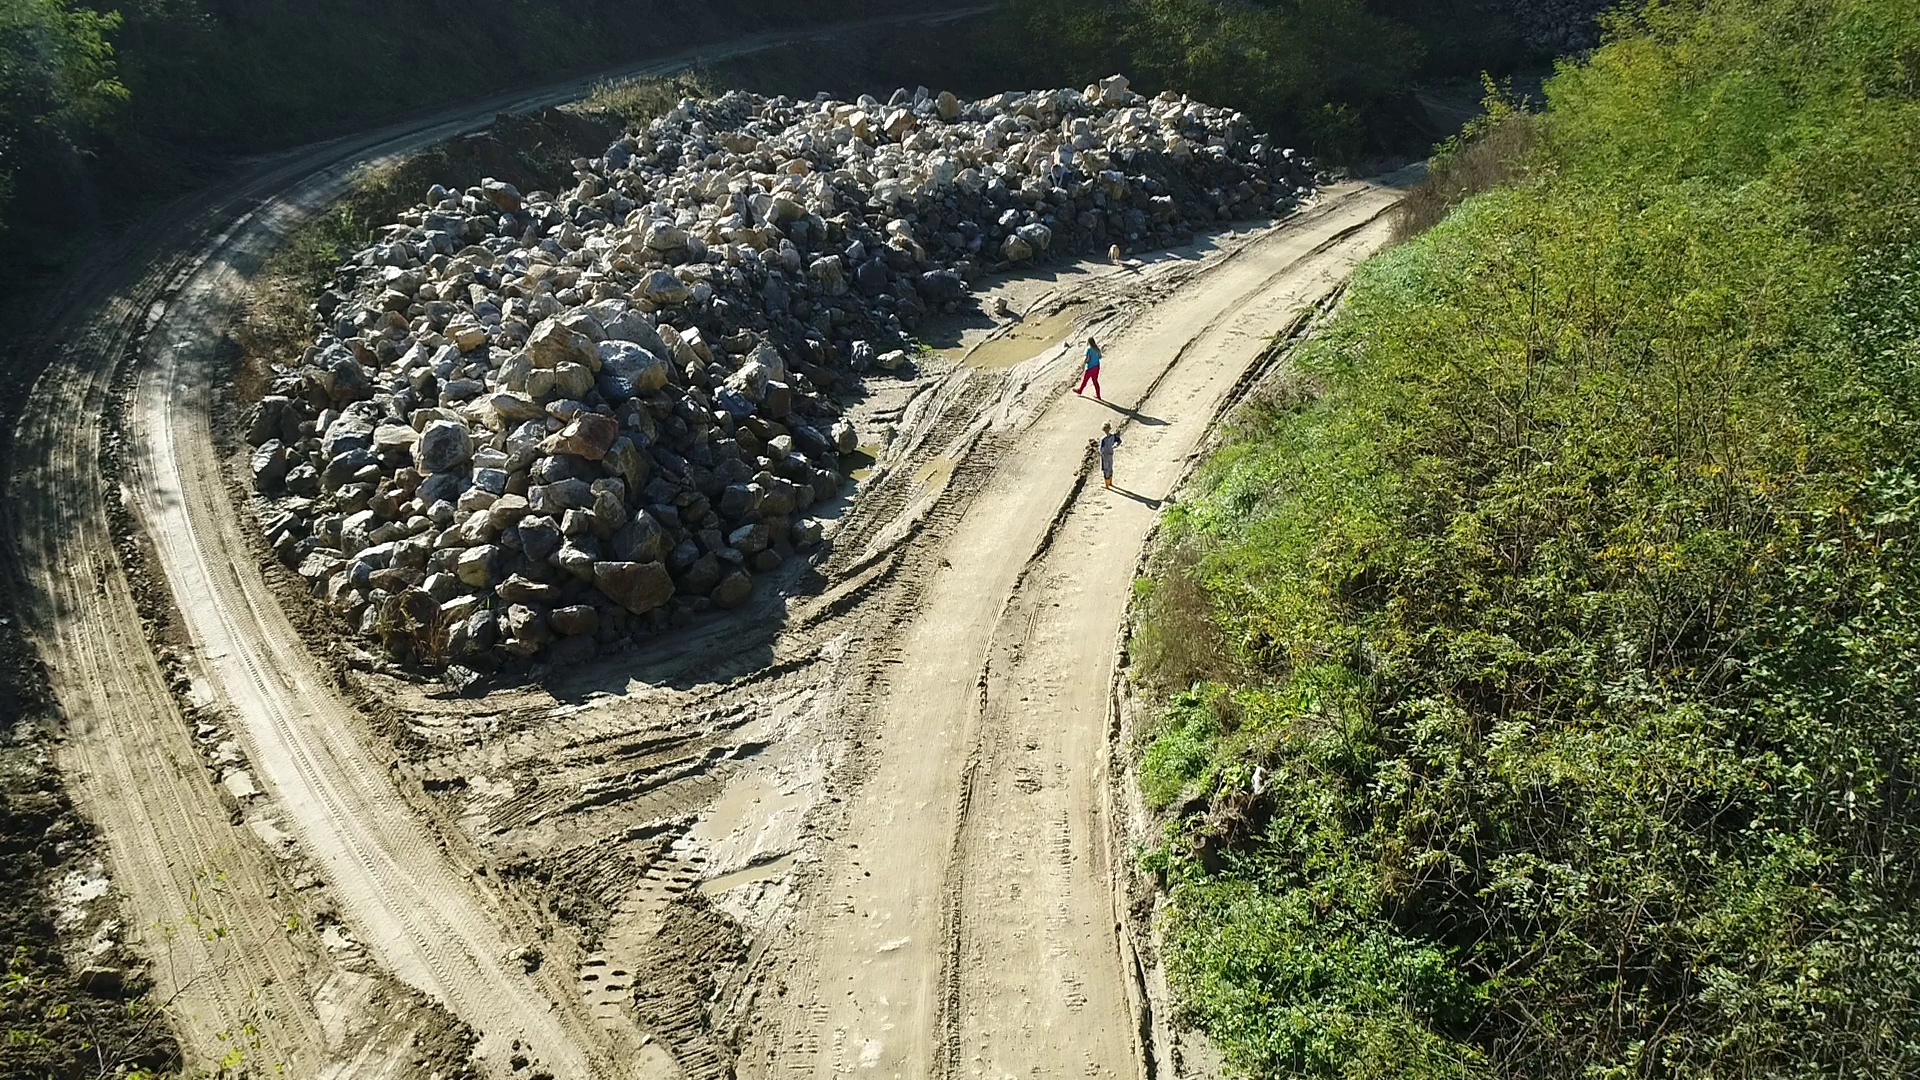person: (1072, 337, 1102, 400), (1099, 420, 1122, 489), (1048, 163, 1070, 188)
